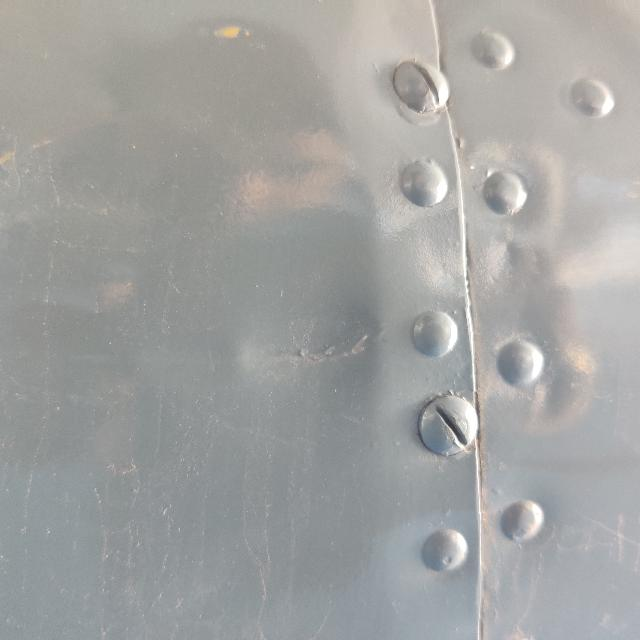dent: (224, 288, 396, 402)
